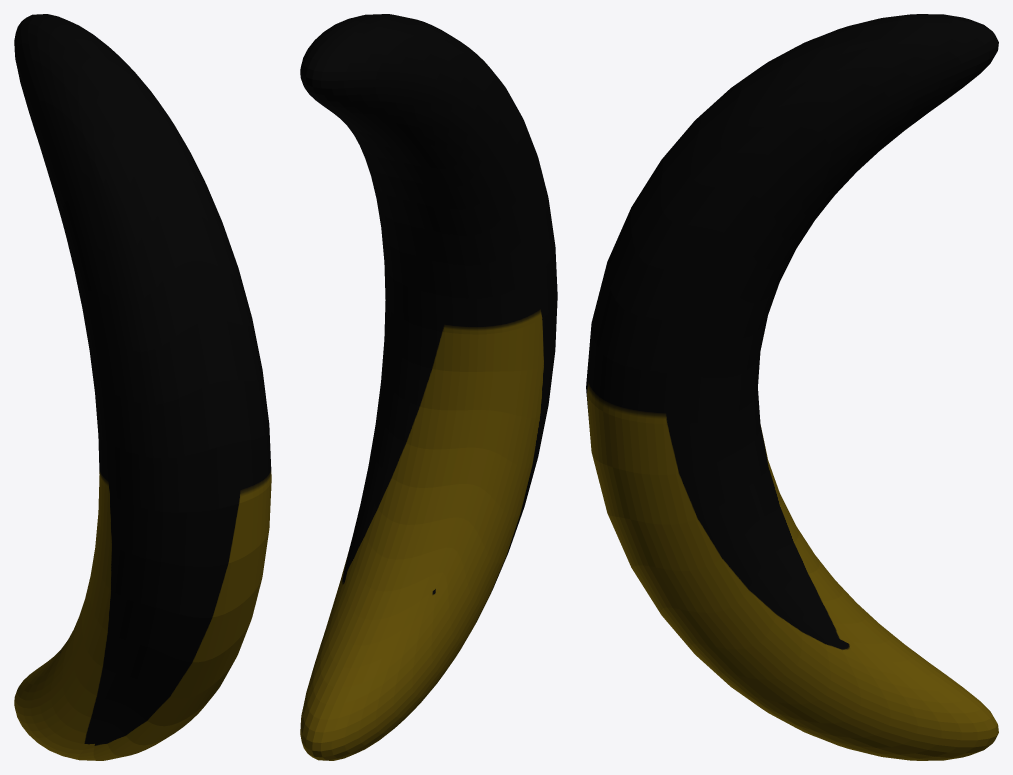
Rendered from random.fbx.
3 renders of one model, left to right at view 1: azimuth 30°, elevation 25°; view 2: azimuth 150°, elevation 25°; view 3: azimuth 270°, elevation 25°, orthographic. The views are drawn at different scales.
Parts seen in each view (by area): view 1: Cube_Baked; view 2: Cube_Baked; view 3: Cube_Baked.
Part boxes in pixels (x1,y1,x2,y2): Cube_Baked: (14,14,271,760); Cube_Baked: (300,14,557,760); Cube_Baked: (586,14,998,760).
Bounding box in the file's own units: 166 × 776 × 393.
